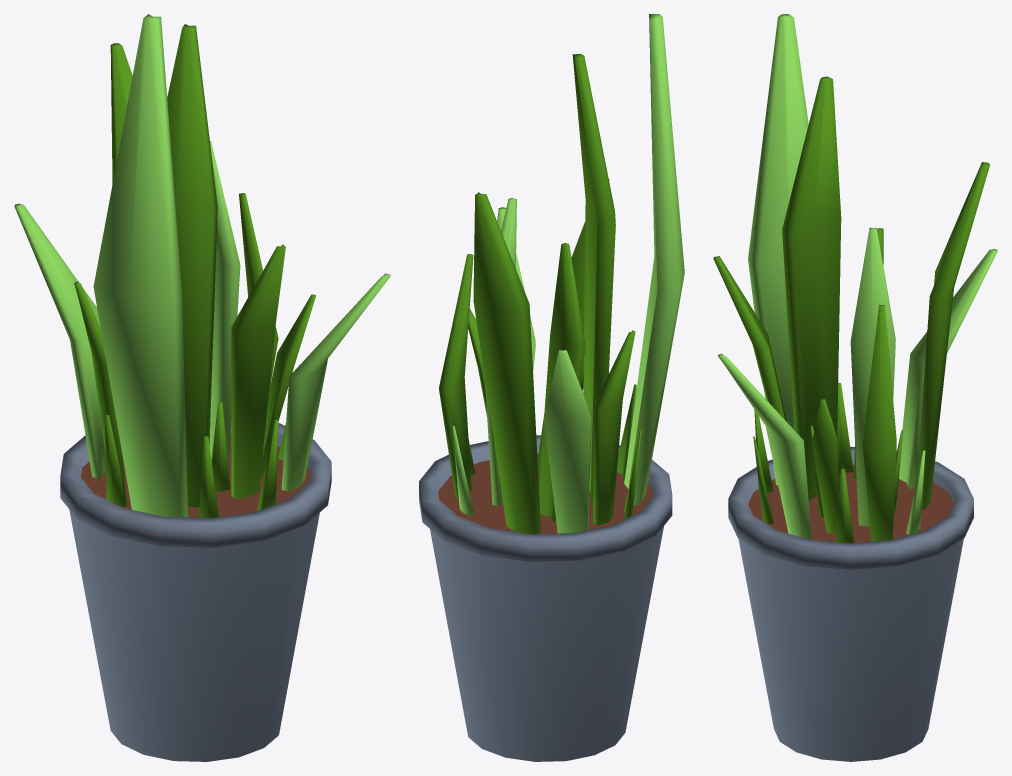
Rendered from SnakePlant.fbx.
3 views of the same model, side by side, from view 1: azimuth 30°, elevation 25°; view 2: azimuth 150°, elevation 25°; view 3: azimuth 270°, elevation 25° (orthographic). The views are drawn at different scales.
Visible parts, largest first — view 1: Cube.015, Cylinder.001, Plane; view 2: Cube.015, Cylinder.001, Plane; view 3: Cube.015, Cylinder.001, Plane.
Part boxes in pixels (left/top/right/bottom): Cube.015: left=14, top=14, right=390, bottom=518; Cylinder.001: left=60, top=423, right=331, bottom=761; Plane: left=80, top=433, right=310, bottom=536; Cube.015: left=439, top=14, right=684, bottom=534; Cylinder.001: left=419, top=435, right=672, bottom=761; Plane: left=438, top=453, right=653, bottom=533; Cube.015: left=713, top=14, right=997, bottom=543; Cylinder.001: left=728, top=446, right=973, bottom=761; Plane: left=748, top=464, right=953, bottom=542.
Size of the model in its own units: 218 by 641 by 244.
